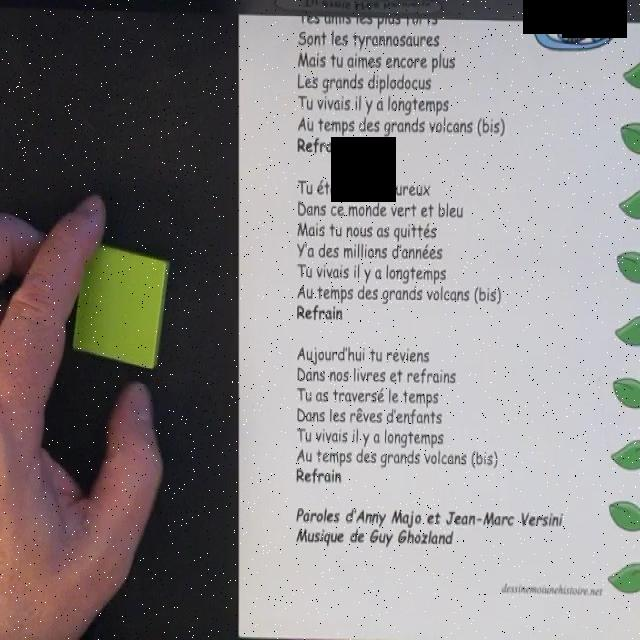square: (72, 240, 170, 370)
